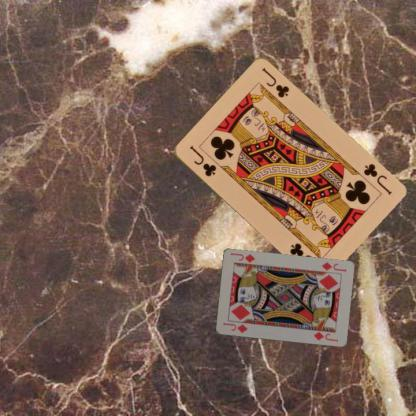Jc: (360, 160, 393, 196), (186, 142, 218, 178)
Jd: (220, 320, 249, 334), (319, 260, 347, 273)
